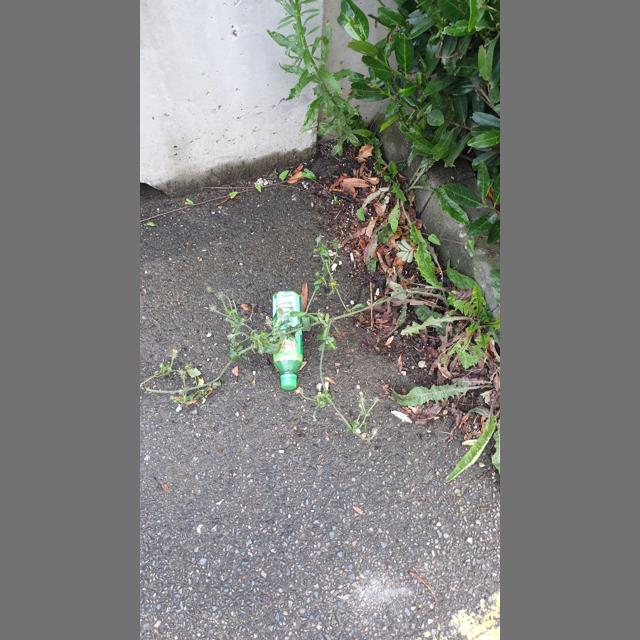litter: (273, 291, 303, 390), (280, 377, 297, 390)
